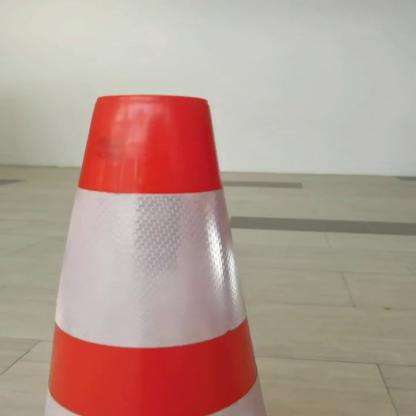cone: (37, 86, 309, 416)
